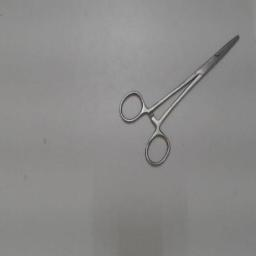Mayo Needle Holder: (115, 20, 251, 172)
